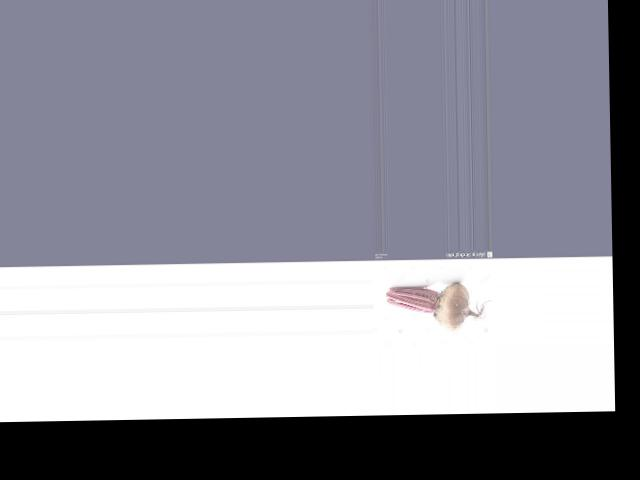beet: (385, 282, 490, 331)
